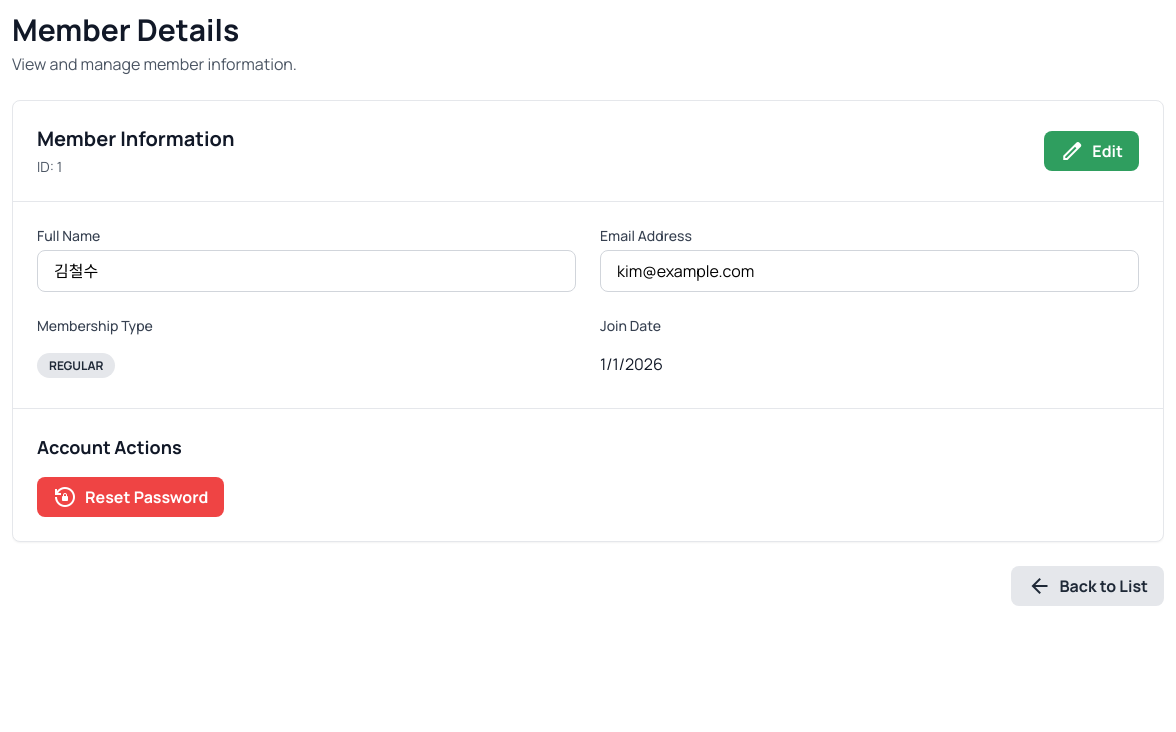
Scenario: MemberDetail (Admin) › AMD-05: 편집 취소 › Cancel 버튼 클릭 시 원본 데이터로 복원된다
Expected: the field showing "김철수" below "Full Name" is shown, [37,250,576,292]
Note: 편집 모드 진입
Click the button "Edit": (1092, 151) [1044,131,1139,171]
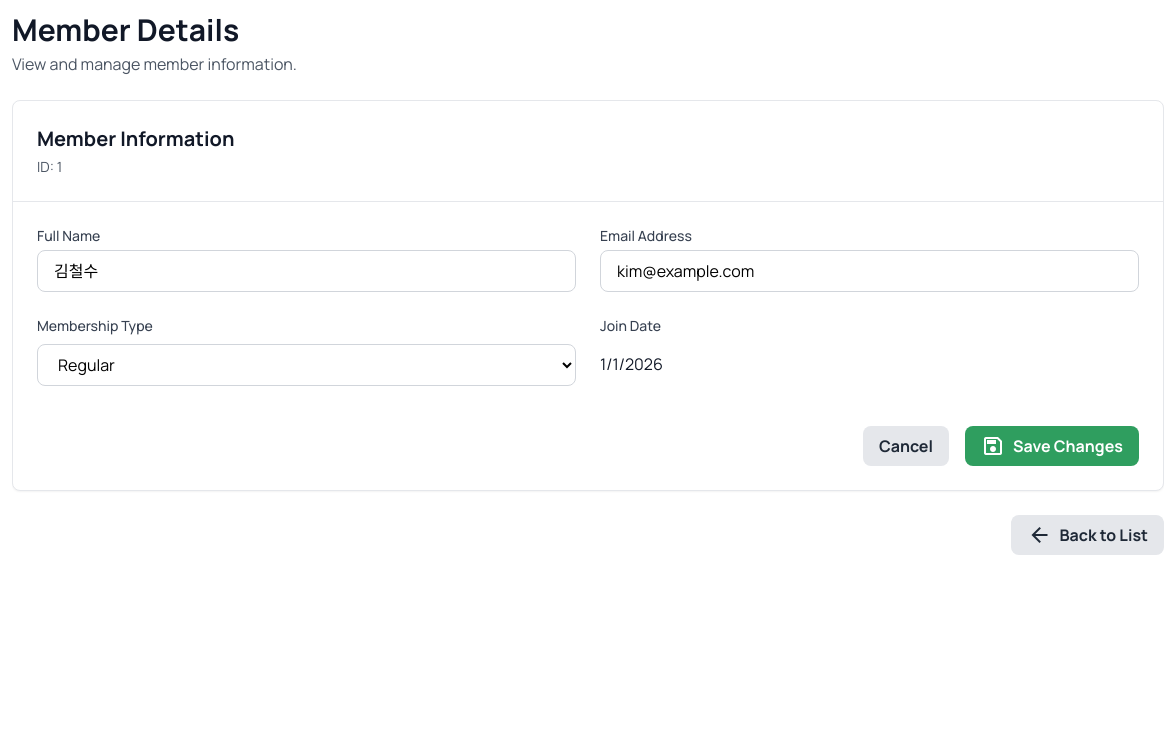
Replace the text in the field showing "김철수" below "Full Name" with "임시이름": (306, 271) [37,250,576,292]
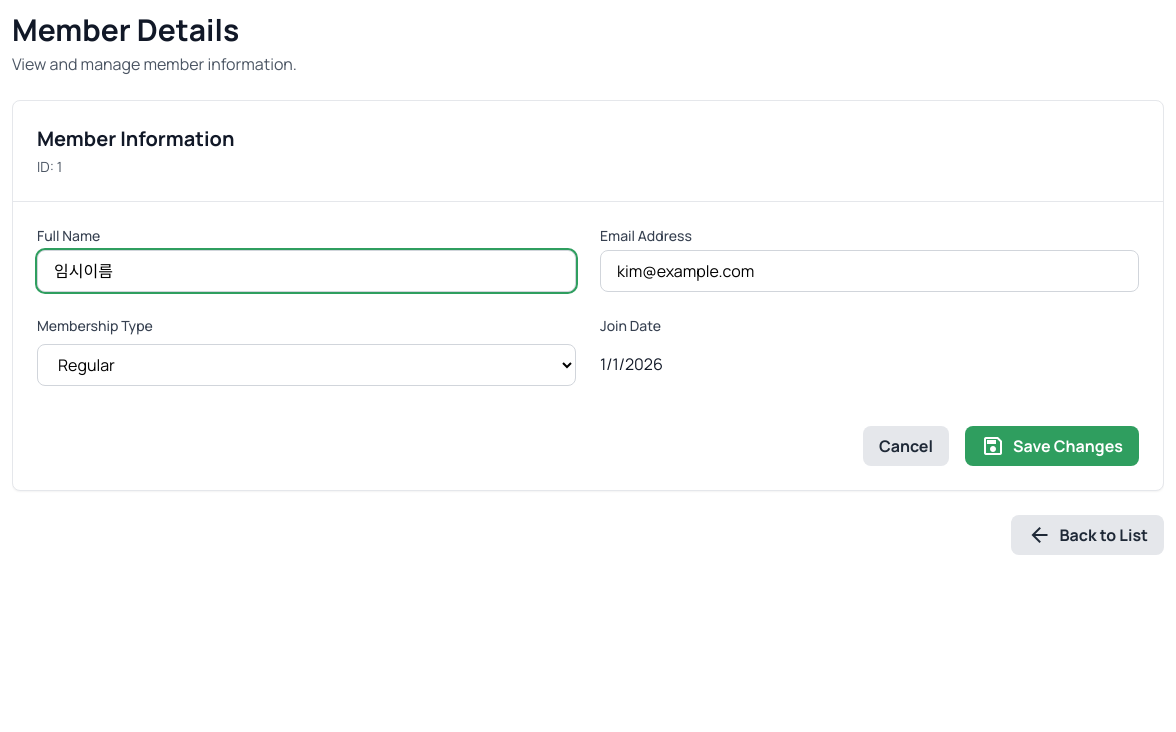
Click the button "Cancel": (906, 446) [863,426,949,466]
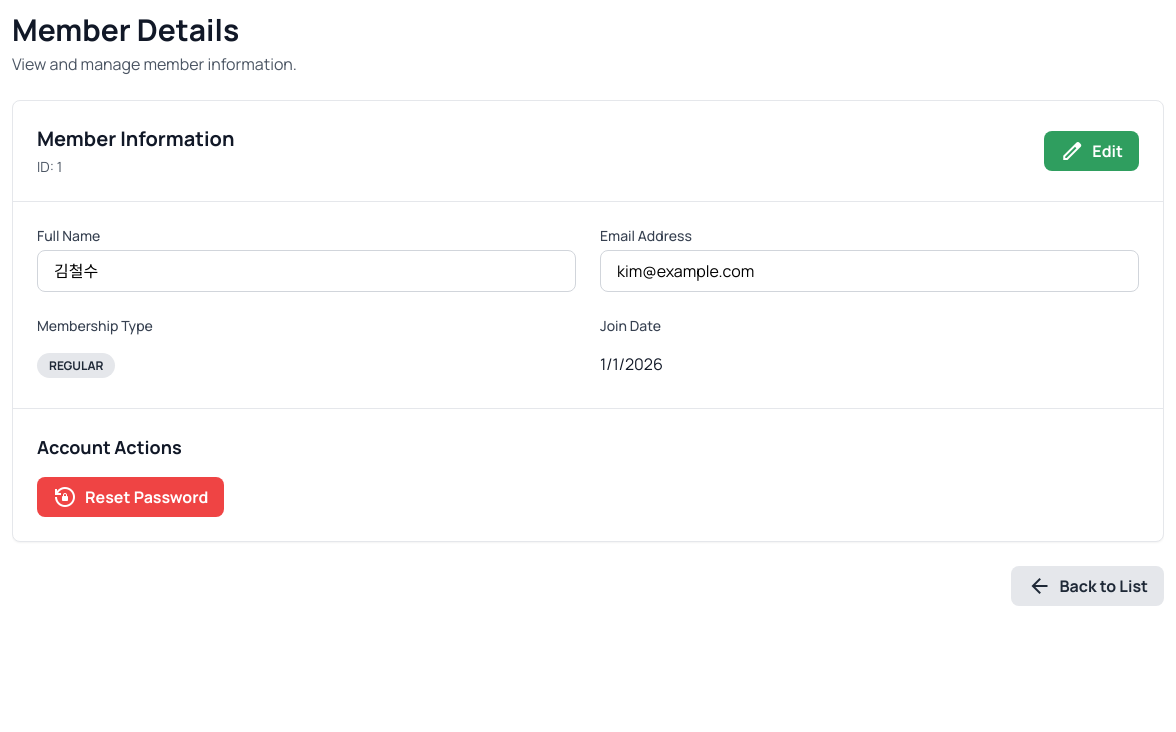
Now the field showing "김철수" below "Full Name" is shown, box [37,250,576,292]
